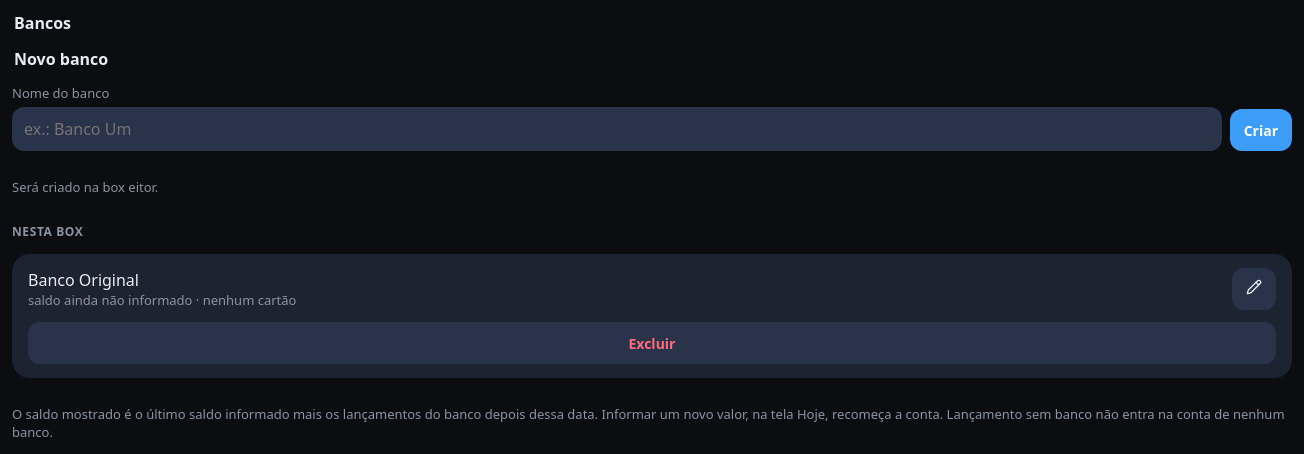
Test: cancelar a edição não persiste nenhuma mudança
Click the button named "Editar" at point(1254, 289), box 1232,268 -> 1276,310
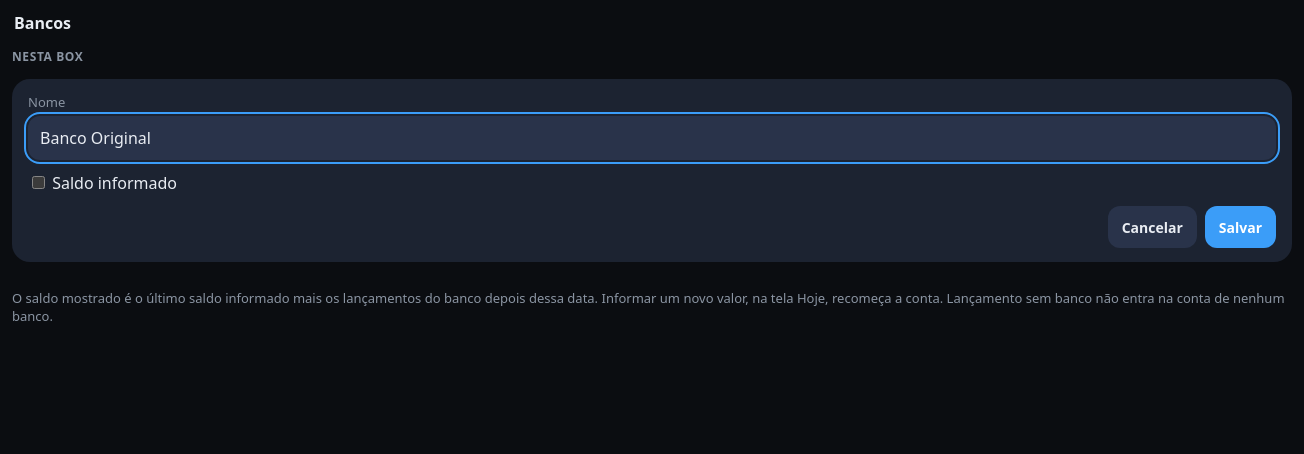
Replace the text in the field labelled "Nome" with "Nome Descartado" at point(652, 138), box 28,116 -> 1276,160
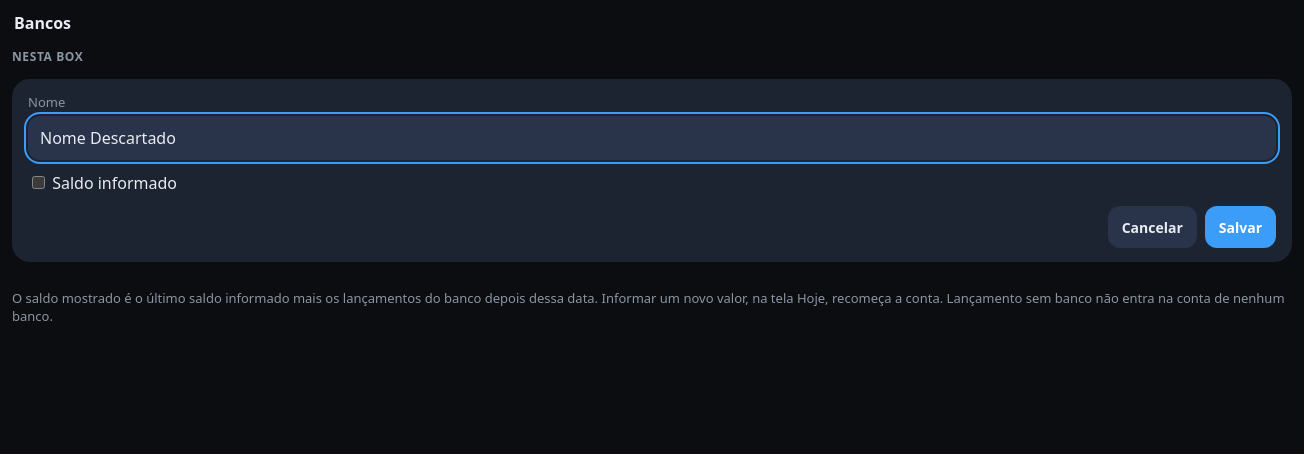
Click the button "Cancelar" at point(1152, 227), box 1108,206 -> 1197,248
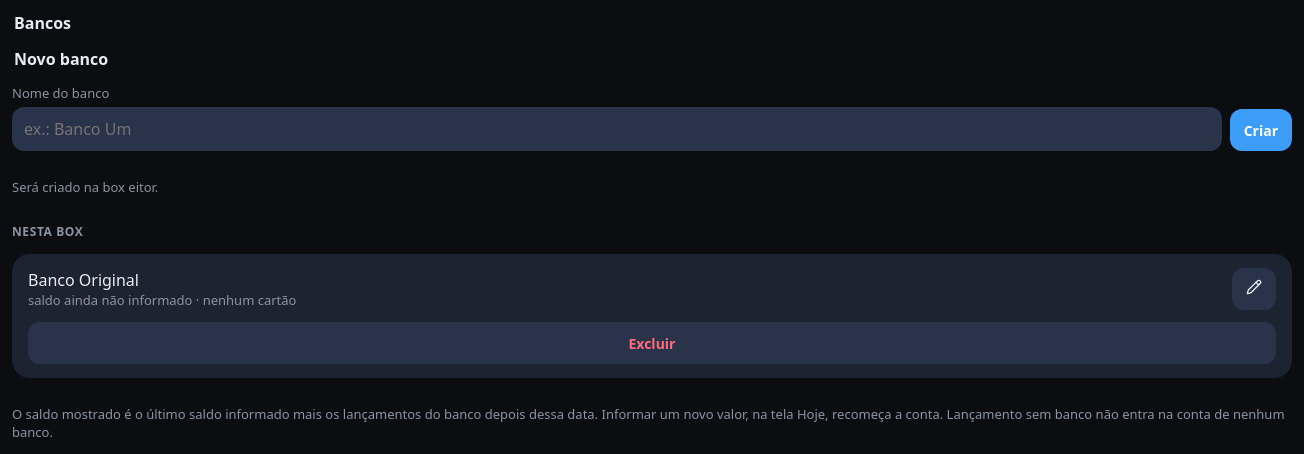
Expected: the text "Nome Descartado" is not shown
Now the text "Banco Original" is shown, box 28,269 -> 139,291
